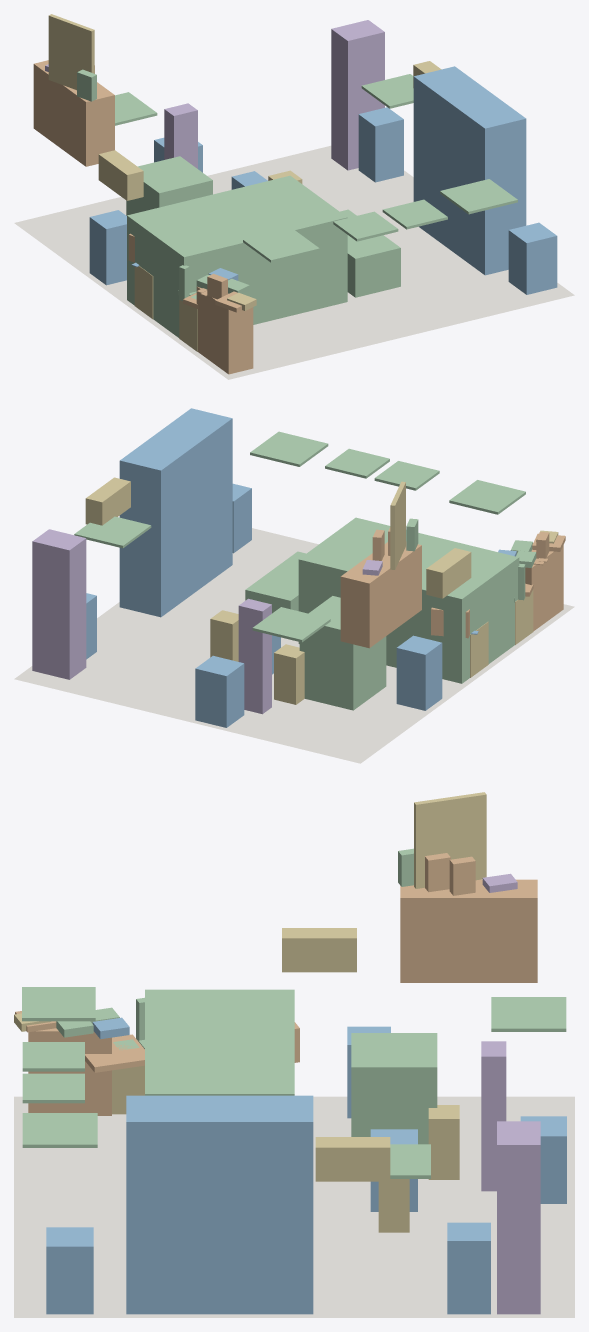
Rendered from layout.glb.
3 views of the same model, one above another, from view 1: azimuth 30°, elevation 25°; view 2: azimuth 150°, elevation 25°; view 3: azimuth 270°, elevation 25° (orthographic). The views are drawn at different scales.
Parts seen in each view (by area): view 1: room_extent_proxy, obj_0000, obj_0004, obj_0015, obj_0035, obj_0003, obj_0012, obj_0014, obj_0005, obj_0006, obj_0022, obj_0013 (+11 smaller); view 2: room_extent_proxy, obj_0004, obj_0000, obj_0015, obj_0035, obj_0005, obj_0009, obj_0011, obj_0013, obj_0003, obj_0006, obj_0007 (+15 smaller); view 3: room_extent_proxy, obj_0004, obj_0000, obj_0035, obj_0005, obj_0015, obj_0022, obj_0012, obj_0014, obj_0043, obj_0042, obj_0009 (+16 smaller).
Part boxes in pixels (bbox=[...]): room_extent_proxy: bbox=[14, 145, 574, 379]; obj_0000: bbox=[127, 175, 347, 337]; obj_0004: bbox=[413, 66, 526, 275]; obj_0015: bbox=[331, 20, 384, 170]; obj_0035: bbox=[33, 60, 114, 166]; obj_0003: bbox=[196, 286, 253, 374]; obj_0012: bbox=[508, 222, 557, 294]; obj_0014: bbox=[358, 107, 403, 182]; obj_0005: bbox=[126, 156, 212, 215]; obj_0006: bbox=[340, 209, 400, 297]; obj_0022: bbox=[48, 14, 94, 90]; obj_0013: bbox=[89, 210, 126, 285]; room_extent_proxy: bbox=[14, 528, 574, 763]; obj_0004: bbox=[119, 408, 232, 617]; obj_0000: bbox=[298, 517, 519, 683]; obj_0015: bbox=[32, 529, 86, 679]; obj_0035: bbox=[340, 541, 421, 648]; obj_0005: bbox=[299, 596, 386, 710]; obj_0009: bbox=[238, 598, 271, 714]; obj_0011: bbox=[195, 655, 244, 727]; obj_0013: bbox=[396, 635, 442, 710]; obj_0003: bbox=[525, 545, 563, 631]; obj_0006: bbox=[245, 551, 305, 613]; obj_0007: bbox=[274, 644, 304, 704]; room_extent_proxy: bbox=[14, 1096, 574, 1317]; obj_0004: bbox=[126, 1095, 313, 1314]; obj_0000: bbox=[145, 989, 294, 1095]; obj_0035: bbox=[400, 879, 537, 982]; obj_0005: bbox=[351, 1033, 437, 1144]; obj_0015: bbox=[497, 1121, 540, 1314]; obj_0022: bbox=[414, 792, 486, 888]; obj_0012: bbox=[46, 1227, 93, 1314]; obj_0014: bbox=[447, 1222, 490, 1314]; obj_0043: bbox=[315, 1137, 390, 1181]; obj_0042: bbox=[282, 928, 356, 972]; obj_0009: bbox=[481, 1041, 506, 1191].
Size of the model in its own units: 4.2 by 2.69 by 4.5.
